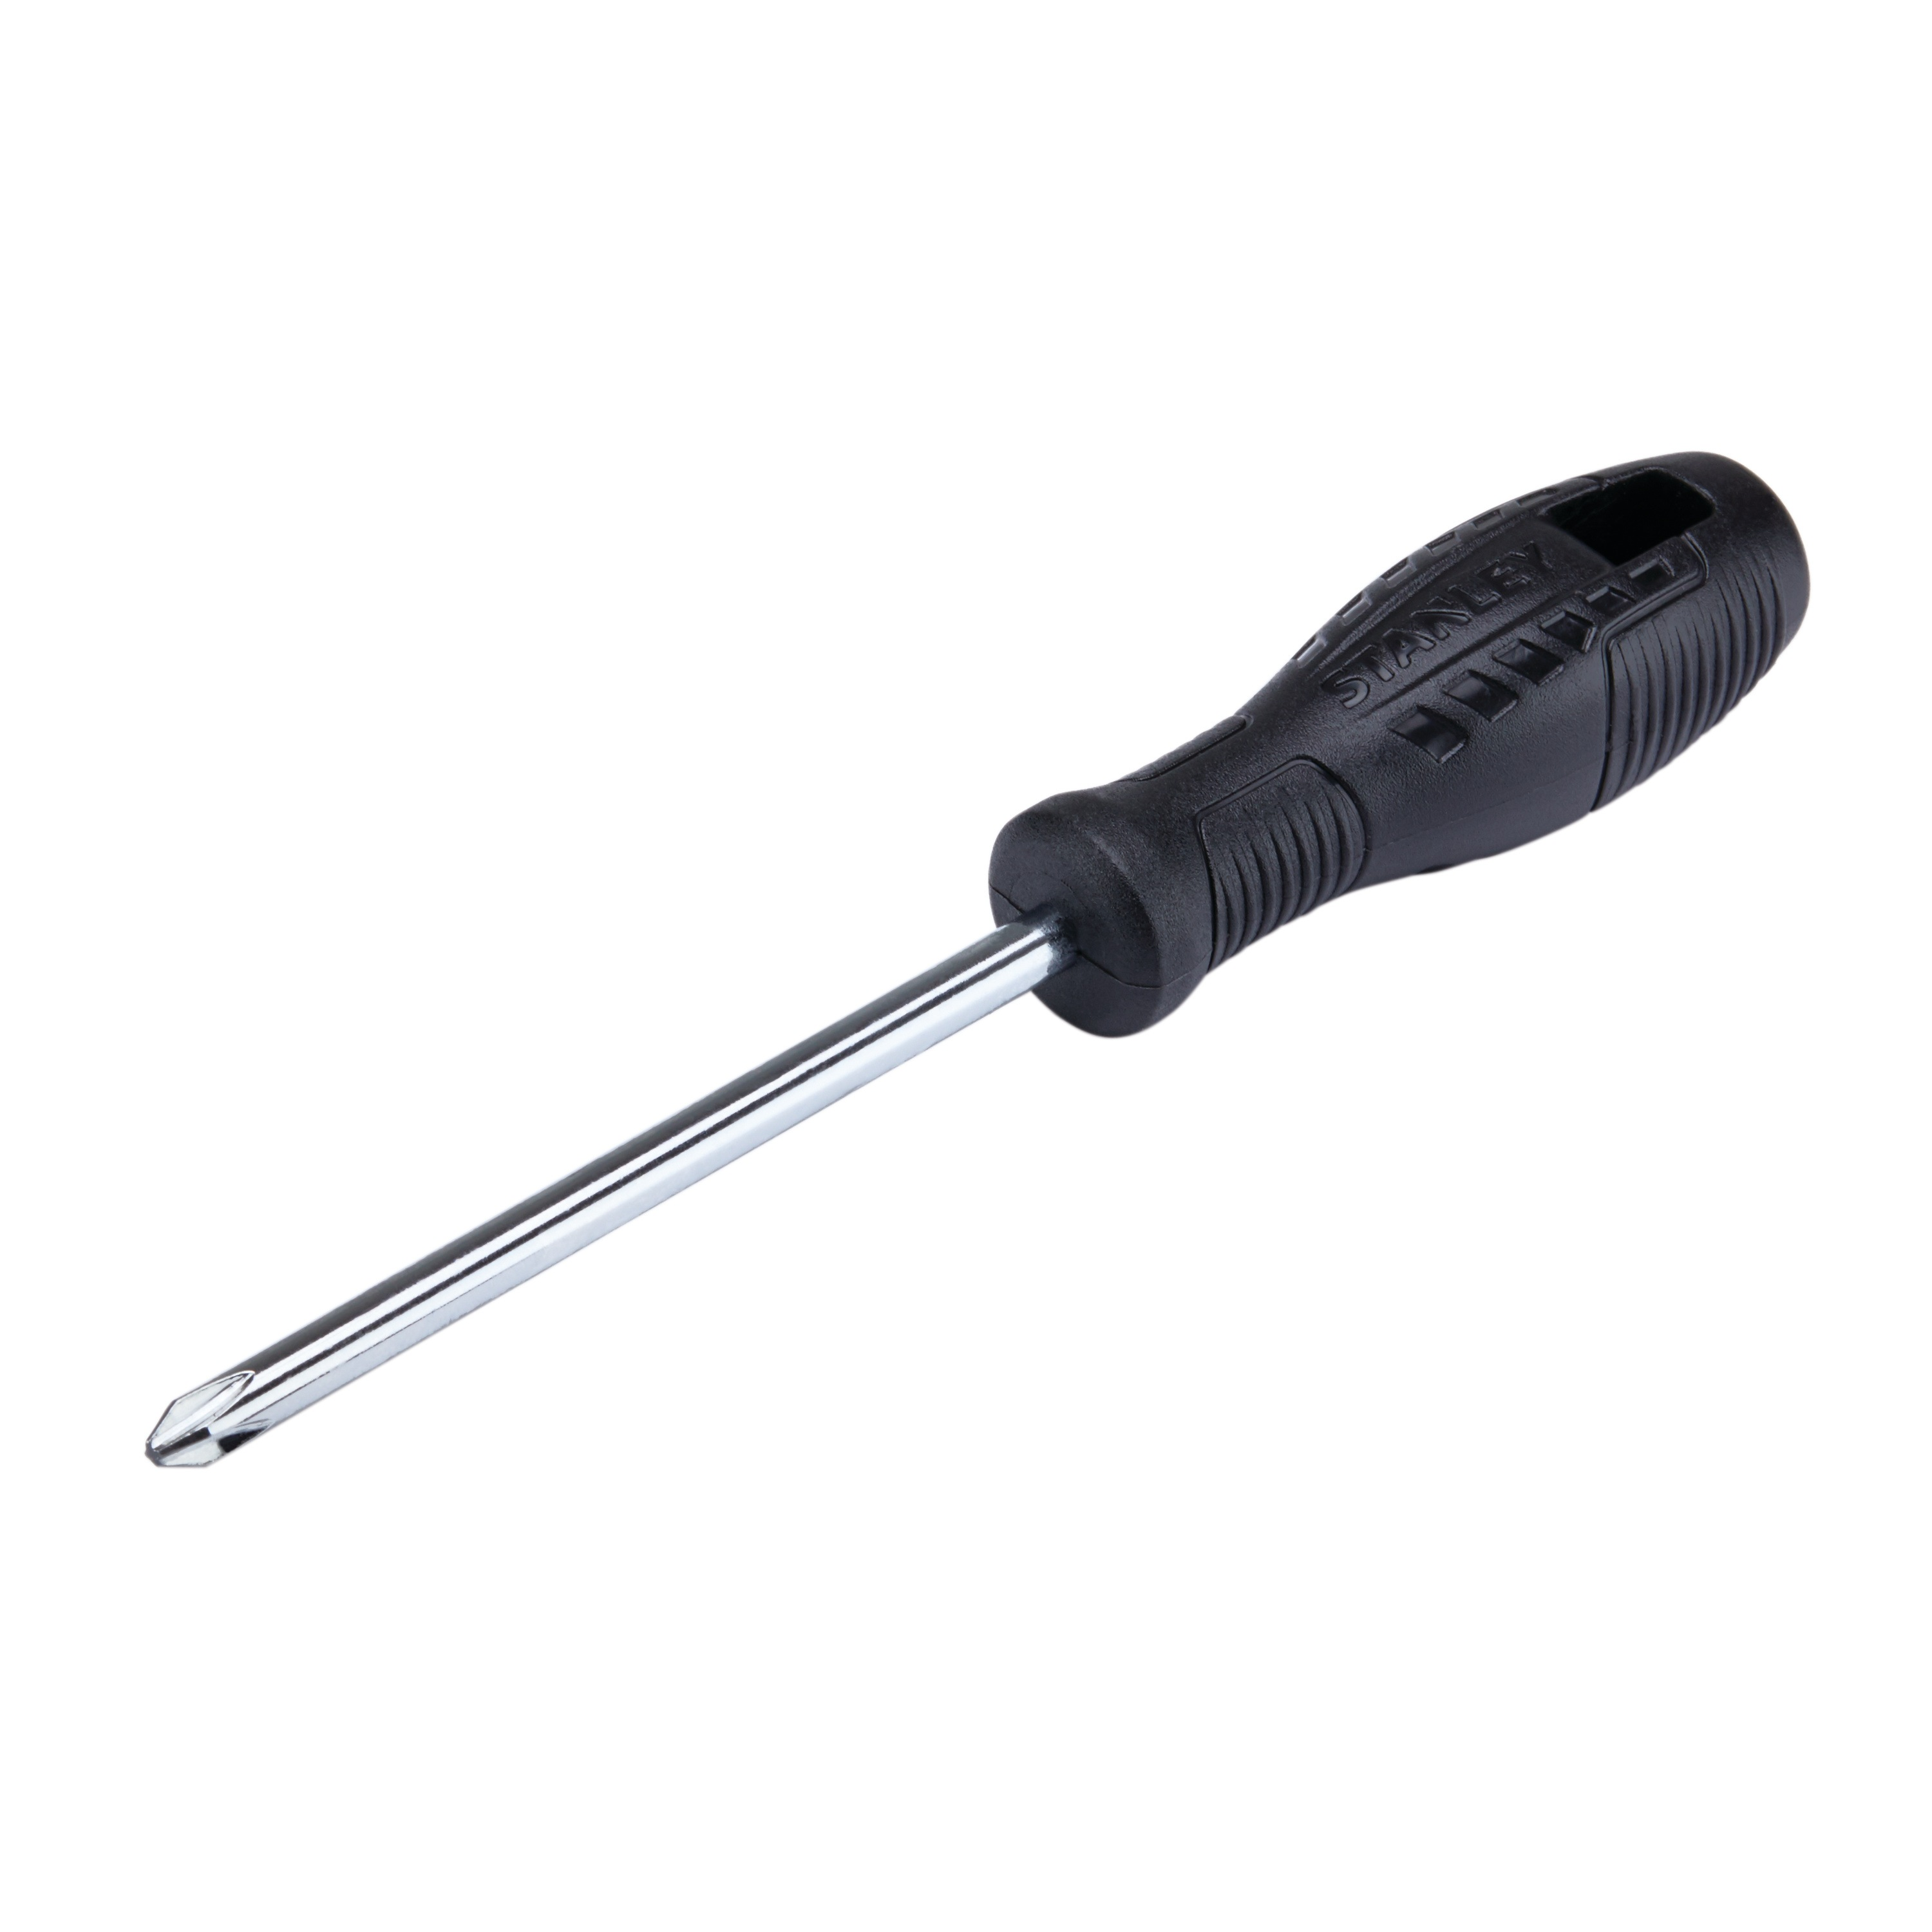screwdriver: (145, 448, 1821, 1472)
